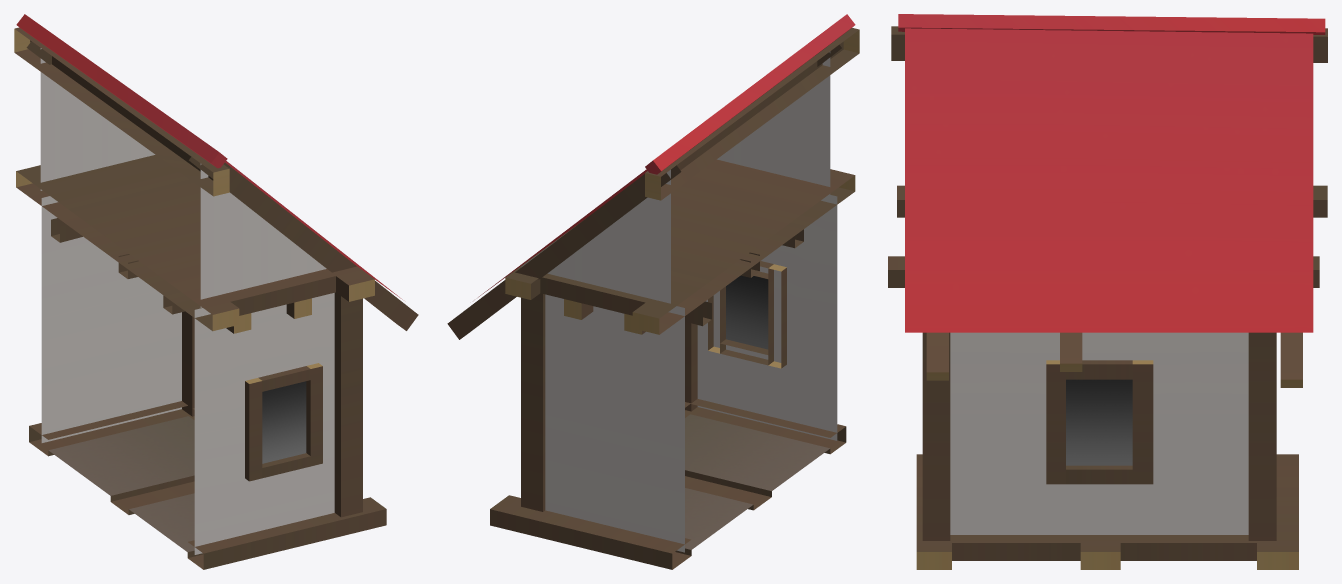
Rendered from House_Piece_1A_LOD1.fbx.
3 renders of one model, left to right at view 1: azimuth 30°, elevation 25°; view 2: azimuth 150°, elevation 25°; view 3: azimuth 270°, elevation 25°, orthographic. The views are drawn at different scales.
Visible parts, largest first — view 1: polySurface9628; view 2: polySurface9628; view 3: polySurface9628.
Part boxes in pixels (box(x1,y1,x2,y2)): polySurface9628: box(14, 14, 418, 569); polySurface9628: box(447, 14, 859, 569); polySurface9628: box(888, 14, 1327, 569).
Bounding box in the file's own units: 219 × 387 × 334.
